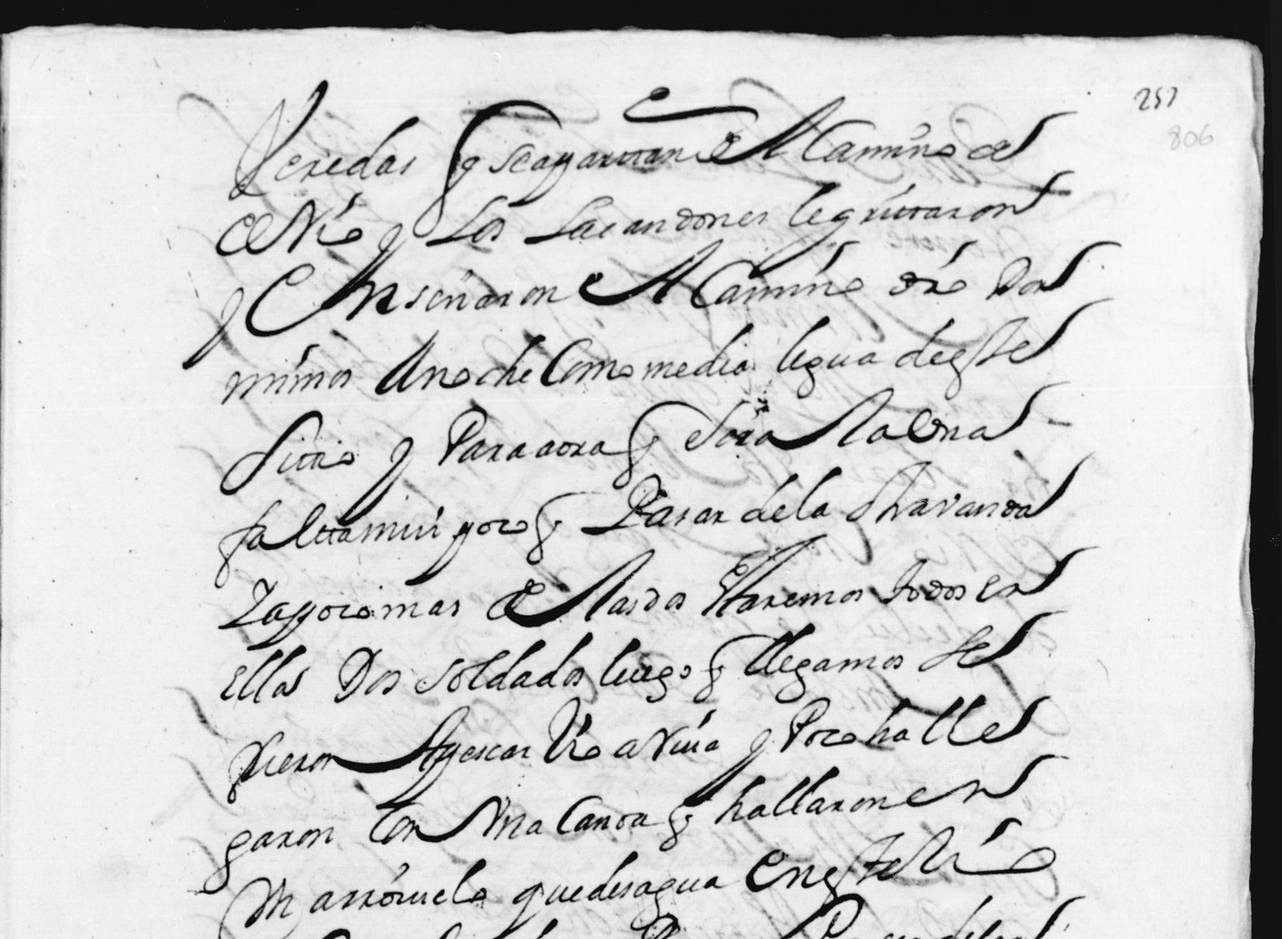lacandon: (524, 196, 768, 244)
